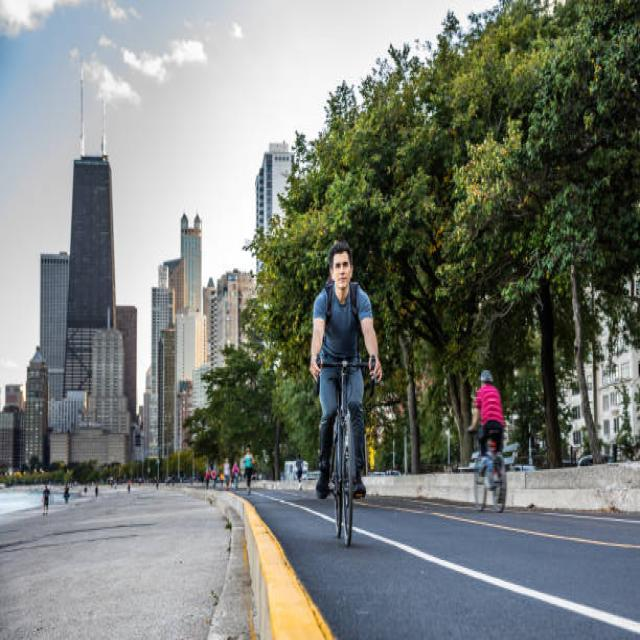bicycle: (310, 242, 382, 543)
